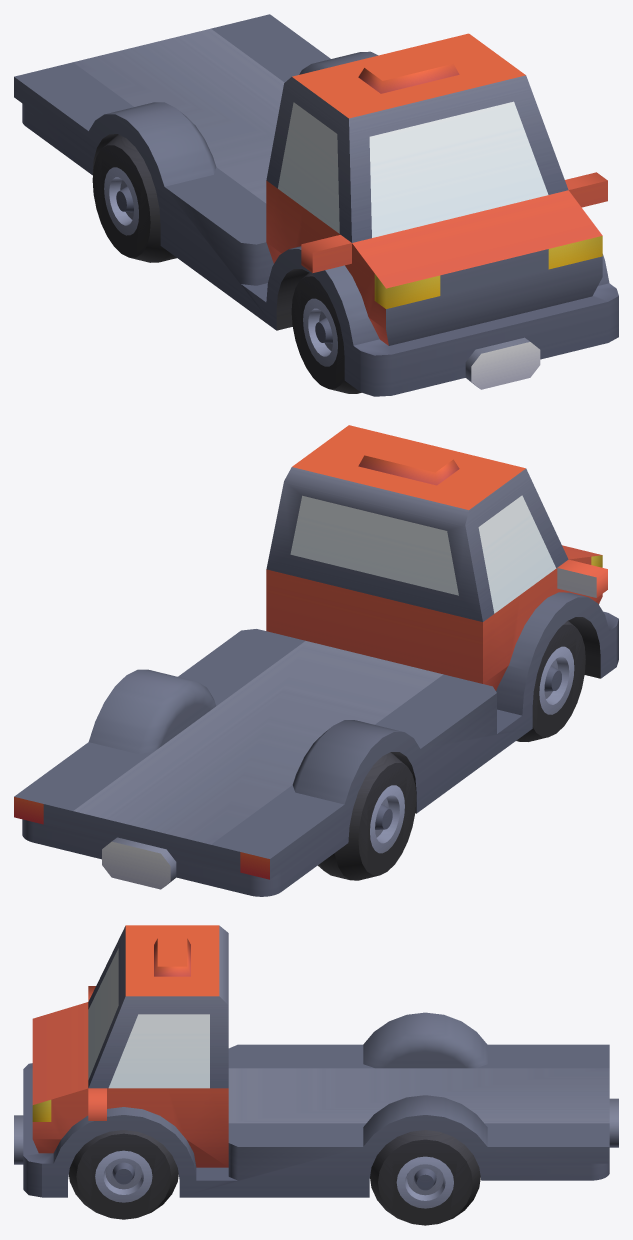
3 views of the same model, one above another, from view 1: azimuth 30°, elevation 25°; view 2: azimuth 150°, elevation 25°; view 3: azimuth 270°, elevation 25° (orthographic). The views are drawn at different scales.
Visible parts, largest first — view 1: body, wheel-back-right, wheel-front-right; view 2: body, wheel-back-right, wheel-front-right; view 3: body, wheel-back-left, wheel-front-left.
Boxes of the visible parts, left/top/right/bottom form: body: left=14, top=14, right=618, bottom=396; wheel-back-right: left=92, top=134, right=176, bottom=262; wheel-front-right: left=291, top=272, right=361, bottom=393; body: left=14, top=425, right=618, bottom=896; wheel-back-right: left=318, top=752, right=416, bottom=880; wheel-front-right: left=516, top=621, right=585, bottom=741; body: left=14, top=925, right=618, bottom=1197; wheel-back-left: left=370, top=1130, right=480, bottom=1225; wheel-front-left: left=69, top=1130, right=178, bottom=1219.
Bounding box in the file's own units: 1.5 × 1.35 × 3.25.
Materials: 1 (1 with a texture image).
